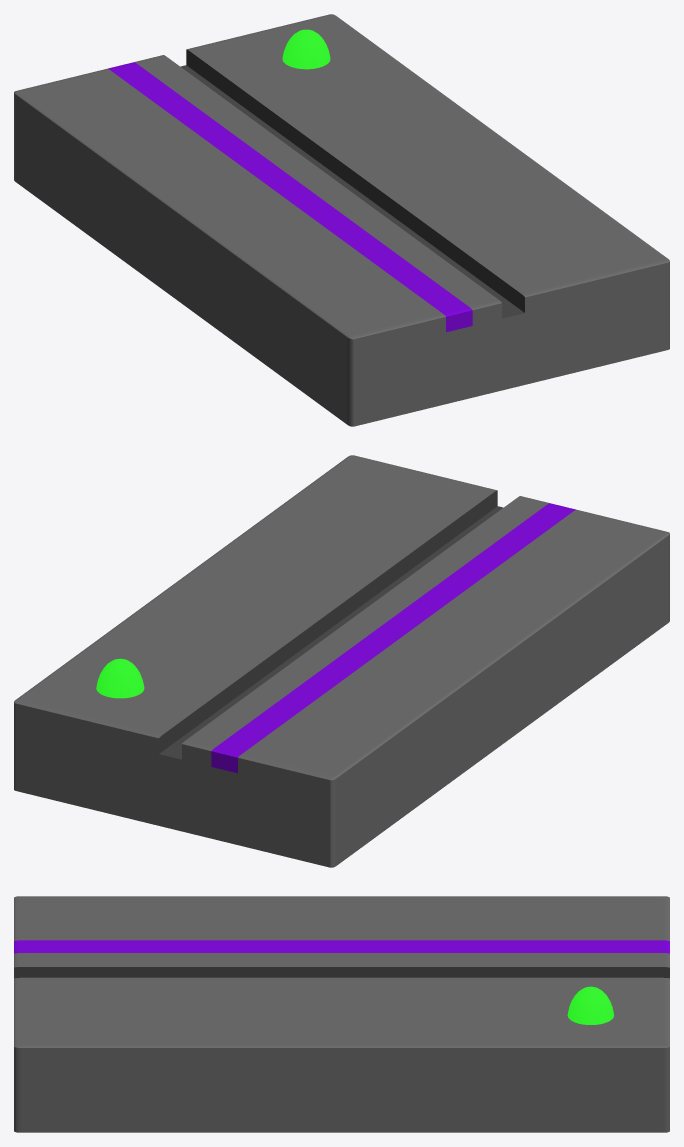
The model's file is PurpleKeyCardScannerGL.glb.
The picture shows the model from 3 angles, top to bottom: view 1: azimuth 30°, elevation 25°; view 2: azimuth 150°, elevation 25°; view 3: azimuth 270°, elevation 25°; orthographic projection. The views are drawn at different scales.
Visible parts, largest first — view 1: Base, Light; view 2: Base, Light; view 3: Base, Light.
Part boxes in pixels (x1,y1,x2,y2): Base: (14,14,669,426); Light: (282,29,330,69); Base: (14,455,669,867); Light: (96,658,144,698); Base: (14,896,669,1132); Light: (567,986,613,1024).
Size of the model in its own units: 0.055 by 0.0192 by 0.1006.
